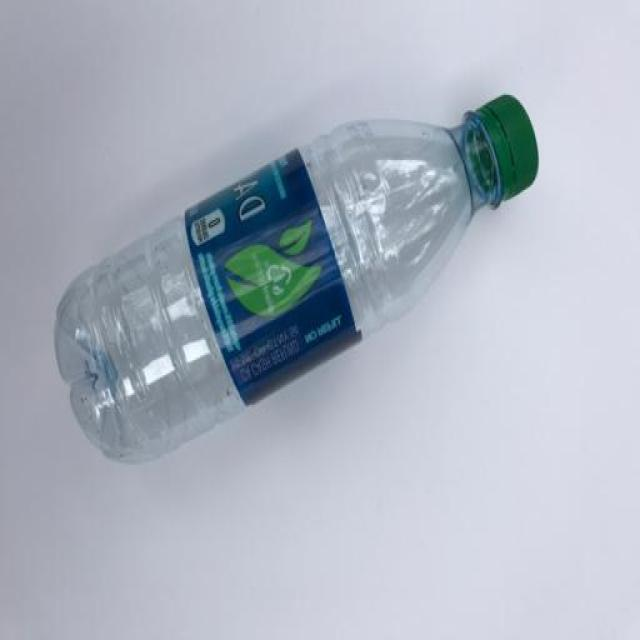plastic: (49, 92, 541, 470)
